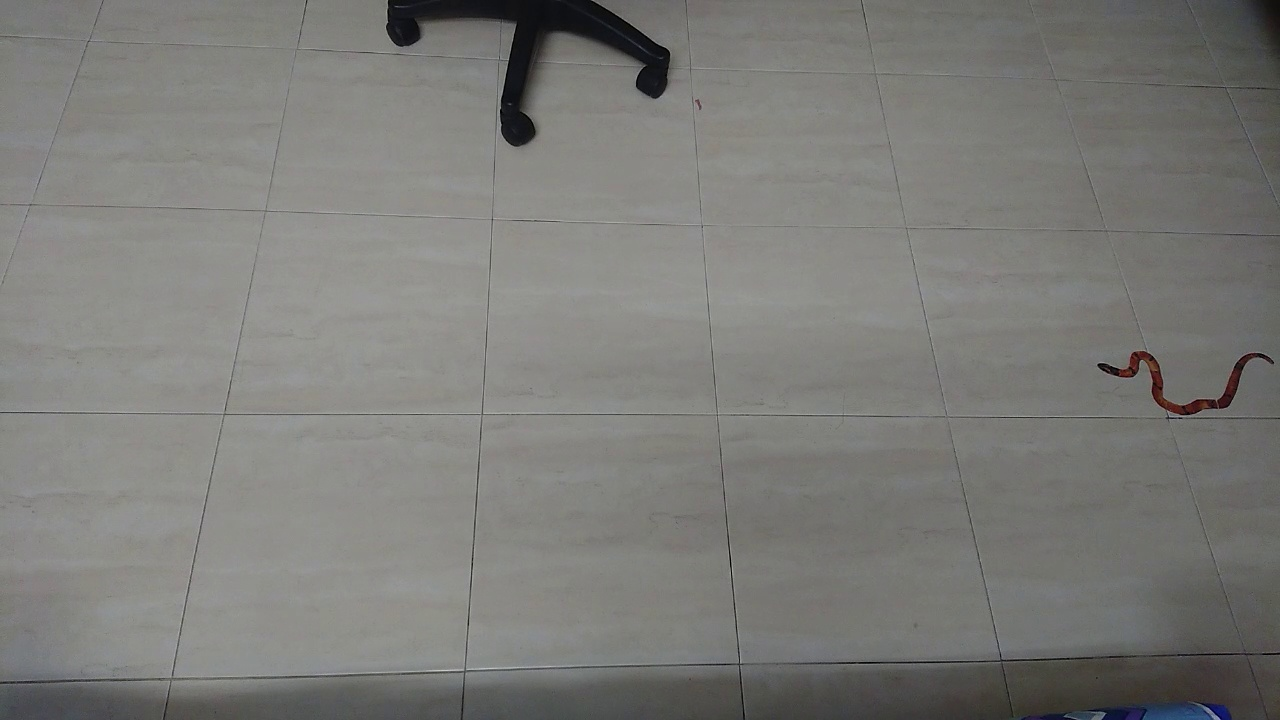snake: (1076, 323, 1280, 436)
